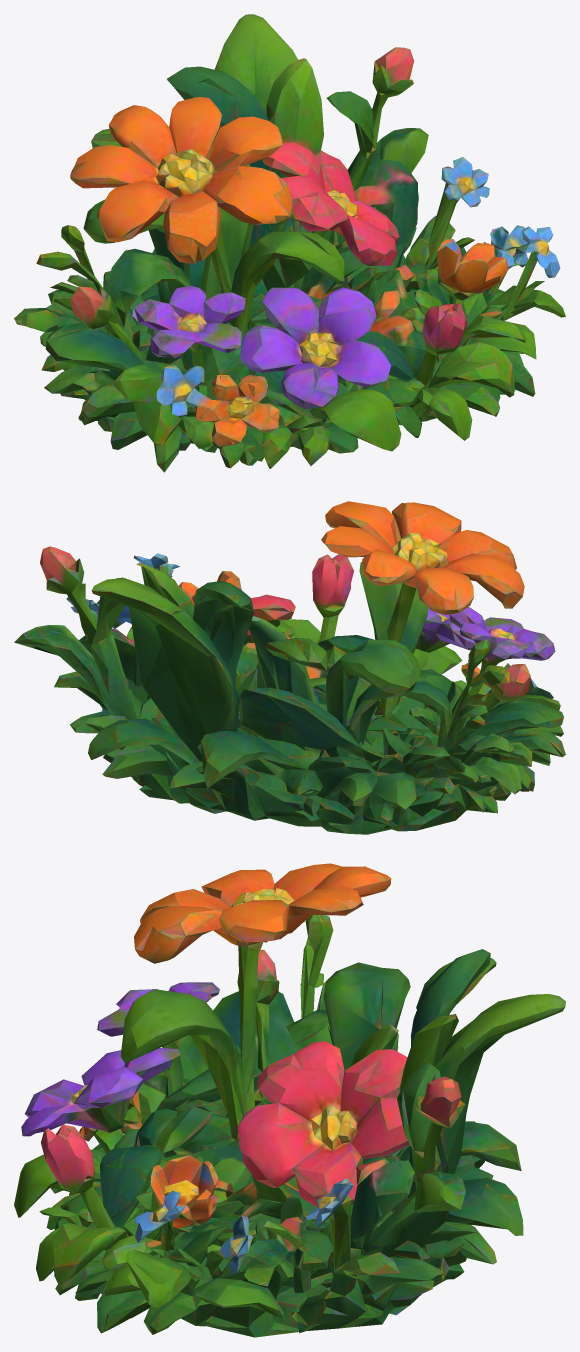
The model's file is garden-blooms-gpu.glb.
3 views of the same model, one above another, from view 1: azimuth 30°, elevation 25°; view 2: azimuth 150°, elevation 25°; view 3: azimuth 270°, elevation 25° (orthographic). The views are drawn at different scales.
Parts seen in each view (by area): view 1: output_unwrapped; view 2: output_unwrapped; view 3: output_unwrapped.
Boxes of the visible parts, left/top/right/bottom form: output_unwrapped: left=14, top=14, right=565, bottom=472; output_unwrapped: left=14, top=501, right=565, bottom=834; output_unwrapped: left=14, top=863, right=565, bottom=1337.
Bounding box in the file's own units: 1.89 × 1.04 × 1.66.
Materials: 1 (1 with a texture image).
